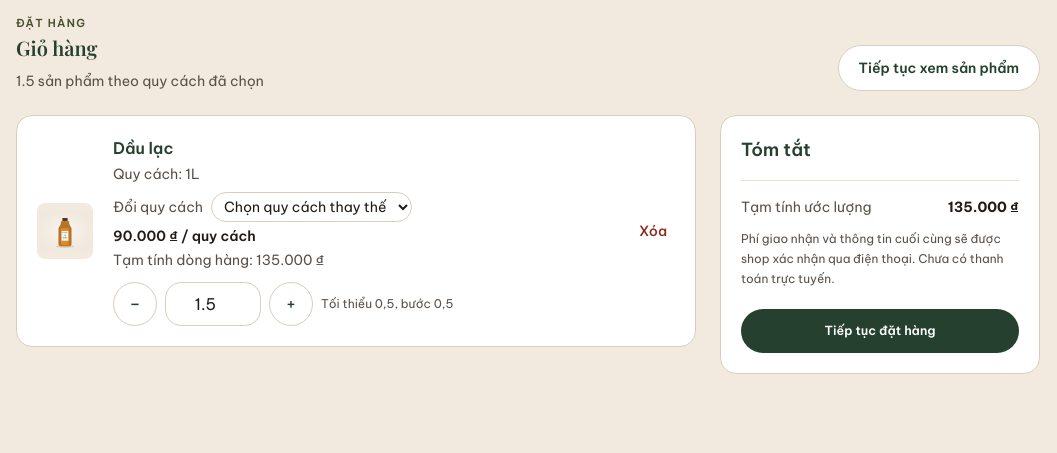
Test: retains a valid fractional quantity for a new variant
Select "Can 5L" in the dropdown: (312, 206) [211,192,412,222]
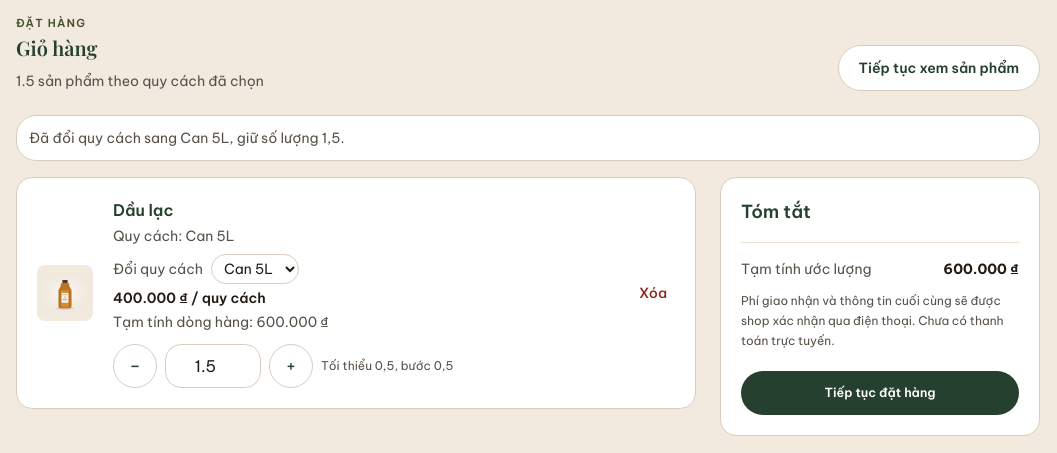
Expected: the number field holds "1.5", [165,344,261,388]
Expected: the text "Quy cách: Can 5L" is shown, [113,226,235,244]
Expected: the text "Tạm tính dòng hàng: 600.000 ₫" is shown, [113,312,329,330]
